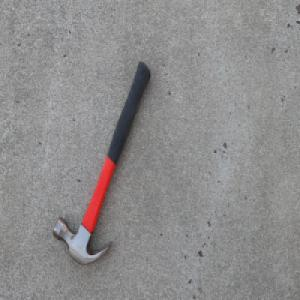Hammer: (52, 60, 151, 266)
